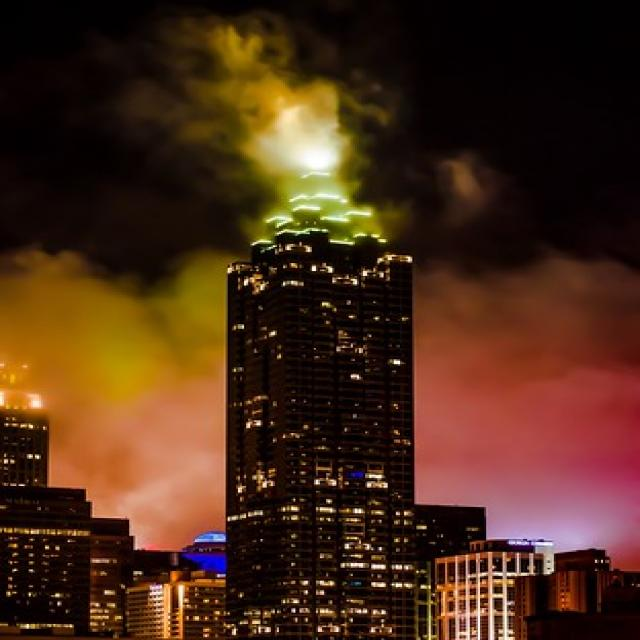Normal_building: (215, 171, 426, 640)
